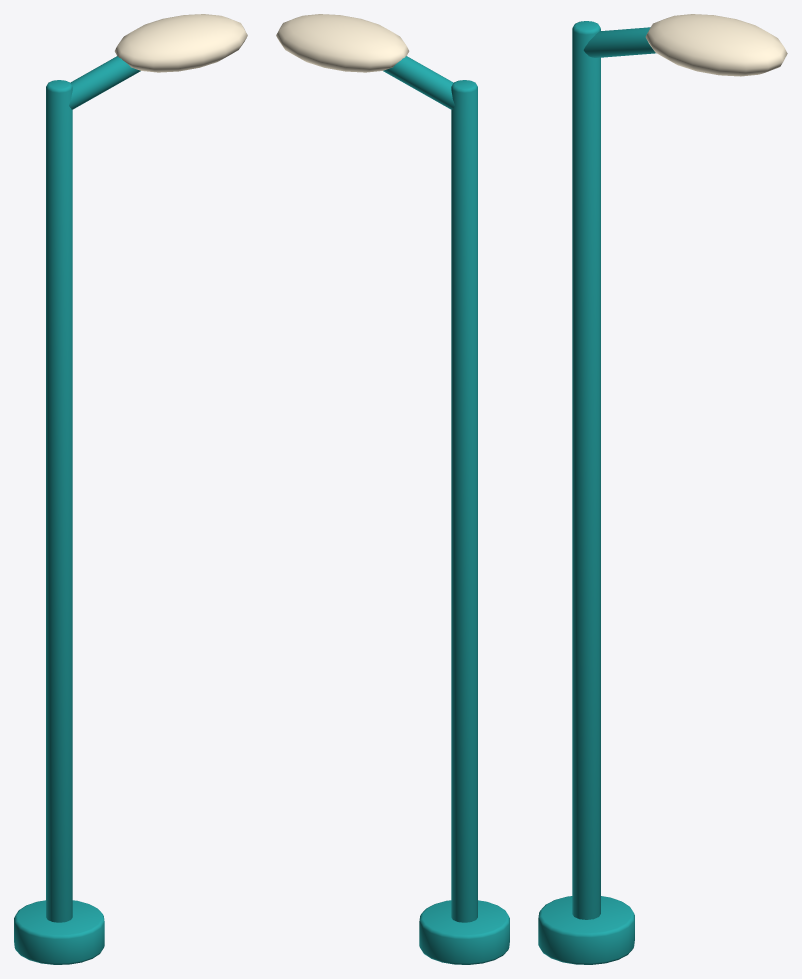
Rendered from Lamp.fbx.
The picture shows the model from 3 angles, left to right: view 1: azimuth 30°, elevation 25°; view 2: azimuth 150°, elevation 25°; view 3: azimuth 330°, elevation 25°; orthographic projection. The views are drawn at different scales.
Parts seen in each view (by area): view 1: GEO-Pole, GEO-LampHead, GEO-Foot, GEO-LampArm; view 2: GEO-Pole, GEO-LampHead, GEO-Foot, GEO-LampArm; view 3: GEO-Pole, GEO-LampHead, GEO-Foot, GEO-LampArm.
Part boxes in pixels (x1,y1,x2,y2): GEO-Pole: (46,80,72,922); GEO-LampHead: (114,14,247,72); GEO-Foot: (14,900,104,964); GEO-LampArm: (69,56,140,109); GEO-Pole: (451,80,477,922); GEO-LampHead: (276,14,409,72); GEO-Foot: (419,900,509,964); GEO-LampArm: (383,56,454,109); GEO-Pole: (572,21,600,919); GEO-LampHead: (645,14,787,76); GEO-Foot: (538,896,634,964); GEO-LampArm: (583,27,656,57).
Bounding box in the file's own units: 1.25 × 4.76 × 0.44.
